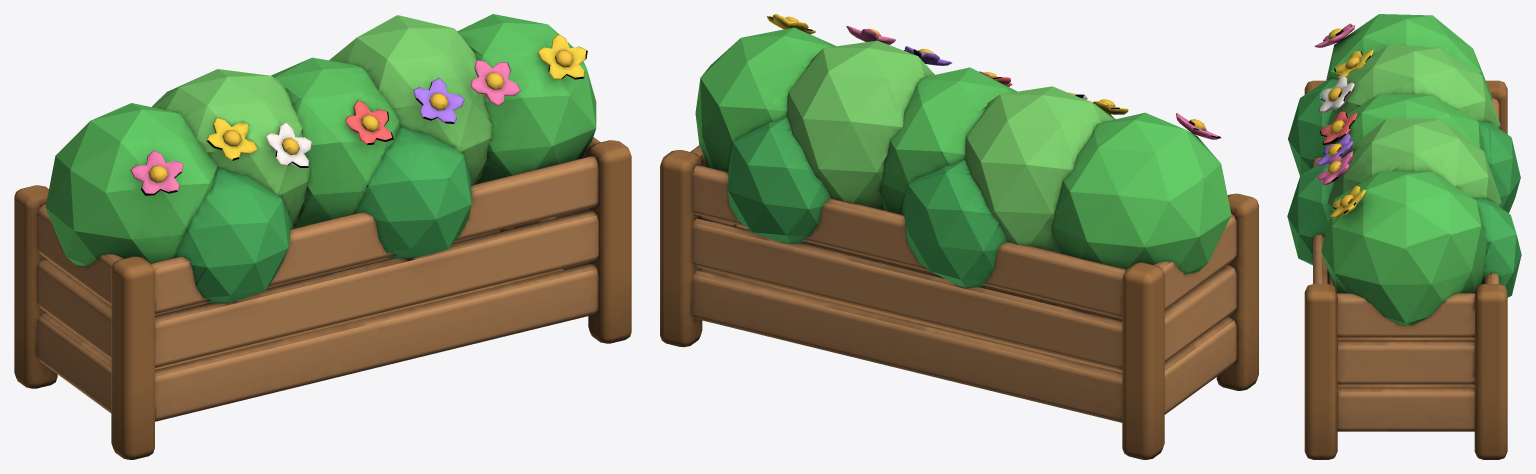
Rendered from planter_box.glb.
3 renders of one model, left to right at view 1: azimuth 30°, elevation 25°; view 2: azimuth 150°, elevation 25°; view 3: azimuth 270°, elevation 25°, orthographic. The views are drawn at different scales.
Visible parts, largest first — view 1: planter_box; view 2: planter_box; view 3: planter_box.
Boxes of the visible parts, left/top/right/bottom form: planter_box: left=14, top=14, right=631, bottom=459; planter_box: left=660, top=14, right=1258, bottom=459; planter_box: left=1287, top=14, right=1521, bottom=459.
Size of the model in its own units: 1.27 by 0.715 by 0.5649.
11 materials, 11 textured.
